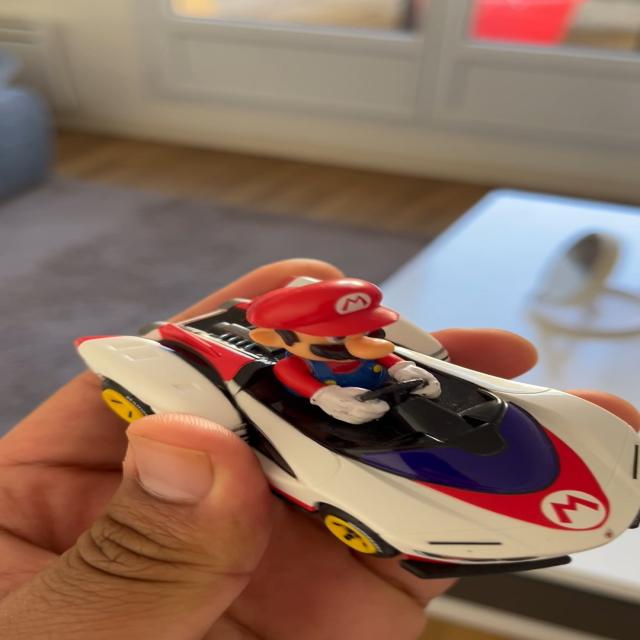mario: (61, 267, 640, 558)
